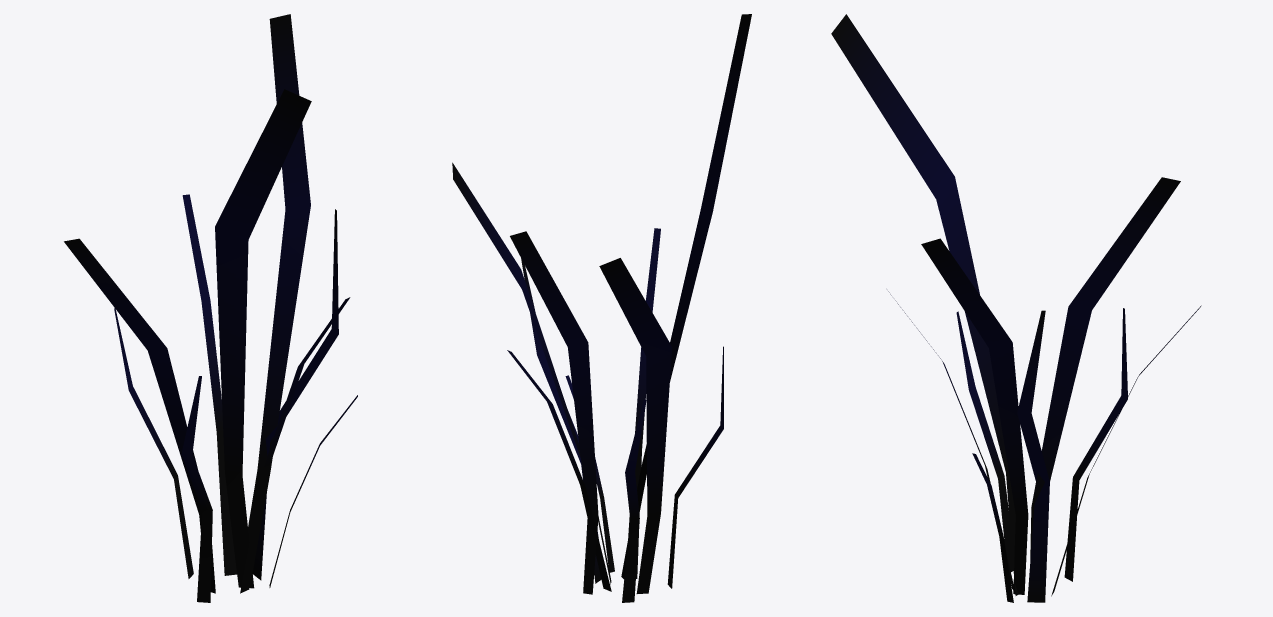
Rendered from SM_Foliage_ReedA_04.fbx.
3 renders of one model, left to right at view 1: azimuth 30°, elevation 25°; view 2: azimuth 150°, elevation 25°; view 3: azimuth 270°, elevation 25°, orthographic. The views are drawn at different scales.
Visible parts, largest first — view 1: SM_Foliage_ReedA_04; view 2: SM_Foliage_ReedA_04; view 3: SM_Foliage_ReedA_04.
Part boxes in pixels (box(x1,y1,x2,y2)): SM_Foliage_ReedA_04: box(64, 14, 357, 602); SM_Foliage_ReedA_04: box(452, 14, 751, 602); SM_Foliage_ReedA_04: box(831, 14, 1201, 602).
Size of the model in its own units: 66.31 by 79.69 by 114.
